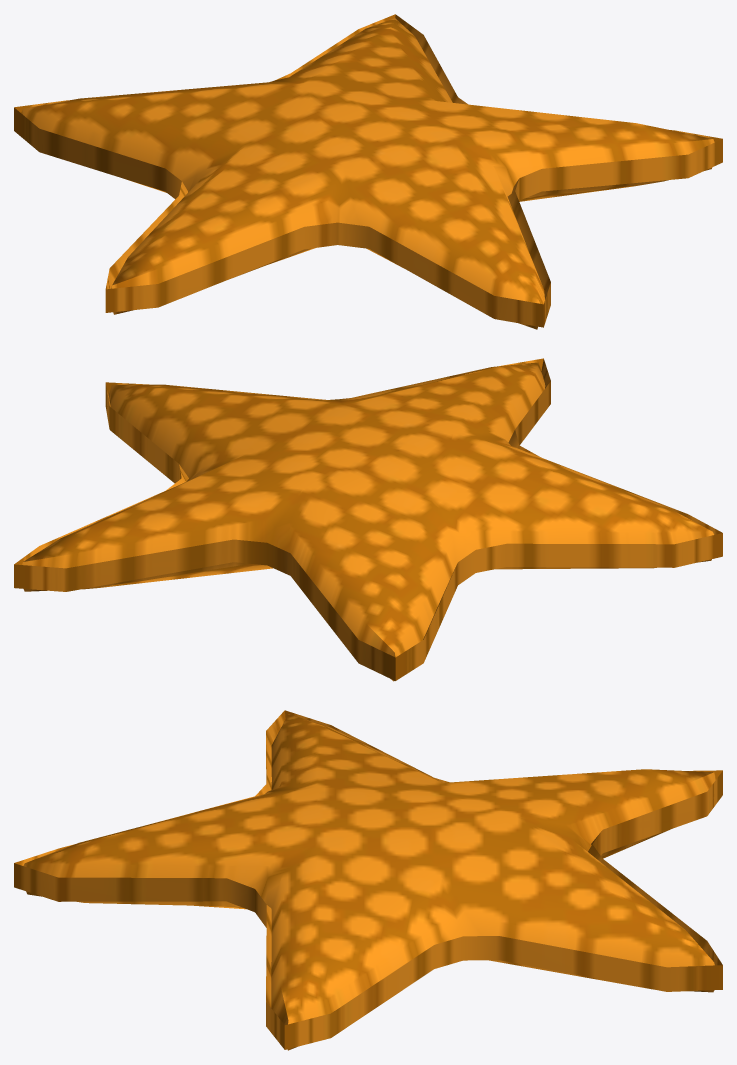
The model's file is Starfish_UnderwaterCreature.fbx.
3 views of the same model, one above another, from view 1: azimuth 30°, elevation 25°; view 2: azimuth 150°, elevation 25°; view 3: azimuth 270°, elevation 25° (orthographic). The views are drawn at different scales.
Visible parts, largest first — view 1: BiscuitStarFish; view 2: BiscuitStarFish; view 3: BiscuitStarFish.
Part boxes in pixels (x1,y1,x2,y2): BiscuitStarFish: (14,14,722,329); BiscuitStarFish: (14,358,722,681); BiscuitStarFish: (14,710,722,1050).
Size of the model in its own units: 1.09 by 0.1491 by 1.04.
